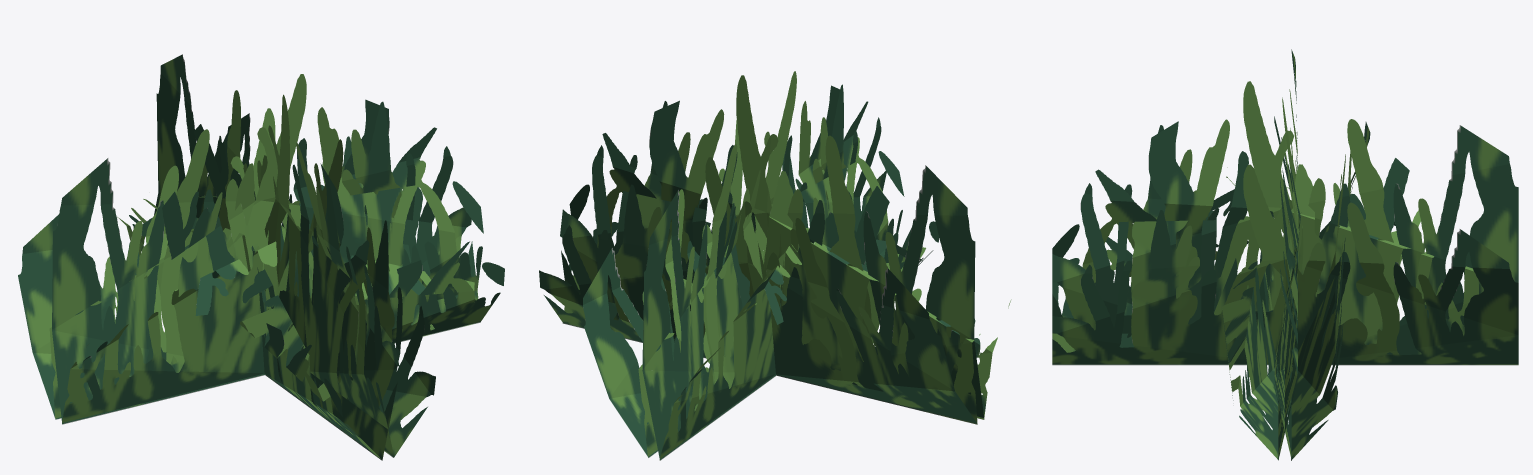
The model's file is Grass_1.fbx.
3 views of the same model, side by side, from view 1: azimuth 30°, elevation 25°; view 2: azimuth 150°, elevation 25°; view 3: azimuth 270°, elevation 25° (orthographic). The views are drawn at different scales.
Parts seen in each view (by area): view 1: Grass_1; view 2: Grass_1; view 3: Grass_1.
Part boxes in pixels (x1,y1,x2,y2): Grass_1: (18, 54, 504, 460); Grass_1: (539, 71, 1011, 460); Grass_1: (1052, 49, 1518, 460).
Bounding box in the file's own units: 0.6667 × 0.5454 × 0.6667.
